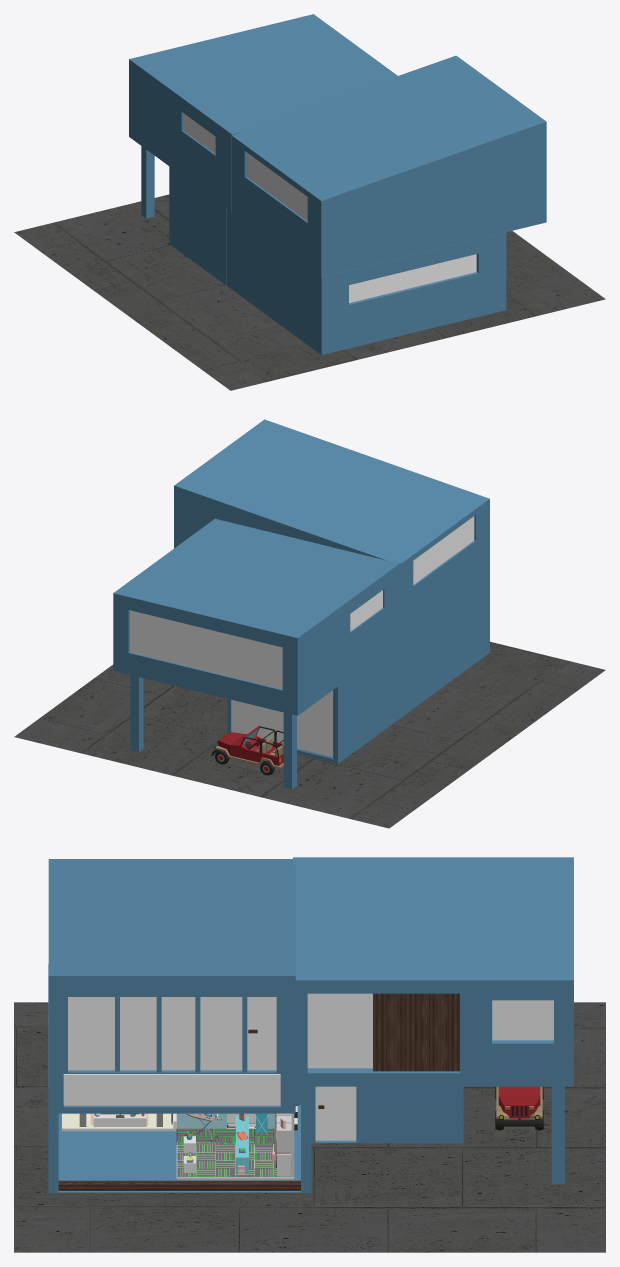
File: MainScene.glb
The picture shows the model from 3 angles, top to bottom: view 1: azimuth 30°, elevation 25°; view 2: azimuth 150°, elevation 25°; view 3: azimuth 270°, elevation 25°; orthographic projection. The views are drawn at different scales.
Parts seen in each view (by area): view 1: Cube001, Plane, Cube002_1_1, Cube_1, Cube003_2, Cube024, Cube021, Cube005, Cube002_2; view 2: Plane, Cube002_1_1, Cube001, Cube_1, Cube019, Cube003_2, Cube023, Cube002_2 (×2), Cube021, Cube004_1, Cube005, Cube002 (+1 smaller); view 3: Plane, Cube002_1_1, Cube001, Cube025, Cube_1, Cube006_1, Plane001_1, Cube003_2, Cube017, low_poly_interior947, garagedoor, Cube018 (+12 smaller).
Boxes of the visible parts, left/top/right/bottom form: Cube001: left=232, top=55, right=546, bottom=277; Plane: left=14, top=194, right=605, bottom=390; Cube002_1_1: left=129, top=14, right=397, bottom=211; Cube_1: left=227, top=209, right=506, bottom=355; Cube003_2: left=169, top=166, right=226, bottom=285; Cube024: left=349, top=254, right=476, bottom=302; Cube021: left=246, top=152, right=307, bottom=220; Cube005: left=141, top=146, right=154, bottom=218; Cube002_2: left=183, top=113, right=215, bottom=153; Plane: left=14, top=641, right=605, bottom=828; Cube002_1_1: left=113, top=518, right=400, bottom=715; Cube001: left=174, top=419, right=489, bottom=639; Cube_1: left=395, top=575, right=489, bottom=721; Cube019: left=129, top=610, right=282, bottom=689; Cube003_2: left=227, top=644, right=395, bottom=763; Cube023: left=231, top=690, right=333, bottom=756; Cube002_2 (×2): left=218, top=590, right=382, bottom=771; Cube021: left=413, top=516, right=474, bottom=584; Cube004_1: left=130, top=675, right=143, bottom=751; Cube005: left=283, top=712, right=296, bottom=789; Cube002: left=213, top=737, right=283, bottom=772; Plane: left=14, top=1002, right=605, bottom=1252; Cube002_1_1: left=293, top=857, right=573, bottom=1086; Cube001: left=48, top=859, right=295, bottom=1113; Cube025: left=68, top=997, right=276, bottom=1070; Cube_1: left=48, top=964, right=311, bottom=1192; Cube006_1: left=63, top=1074, right=280, bottom=1105; Plane001_1: left=373, top=993, right=459, bottom=1071; Cube003_2: left=311, top=1086, right=463, bottom=1143; Cube017: left=307, top=993, right=372, bottom=1068; low_poly_interior947: left=176, top=1128, right=291, bottom=1176; garagedoor: left=58, top=1180, right=300, bottom=1190; Cube018: left=492, top=1000, right=553, bottom=1040.
Size of what is drawn, in the model's own units: 66.09 by 30.24 by 66.09.
17 materials, 5 textured.
